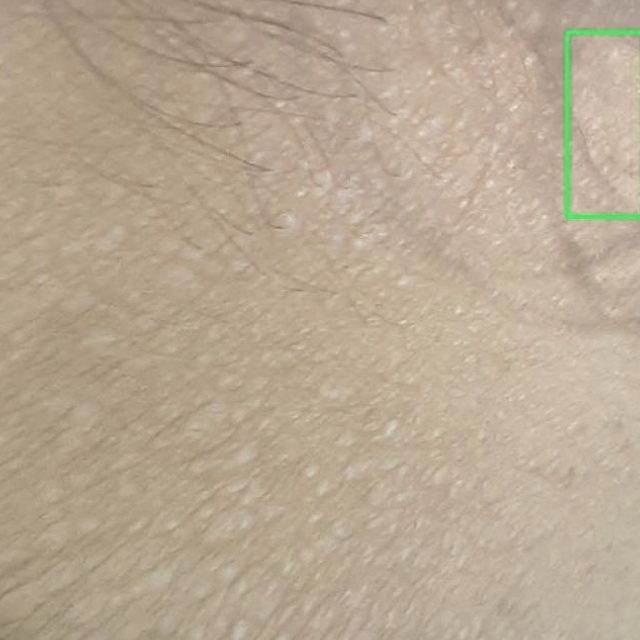Contact Dermatitis: (567, 32, 639, 216)
